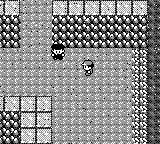captura: (0, 1, 159, 144)
main: (81, 61, 94, 75)
no-caminable: (52, 16, 146, 47), (1, 95, 51, 143), (131, 49, 147, 143), (52, 0, 147, 15), (1, 16, 20, 47), (1, 112, 20, 143), (1, 0, 20, 15)
npc: (51, 44, 65, 60)
